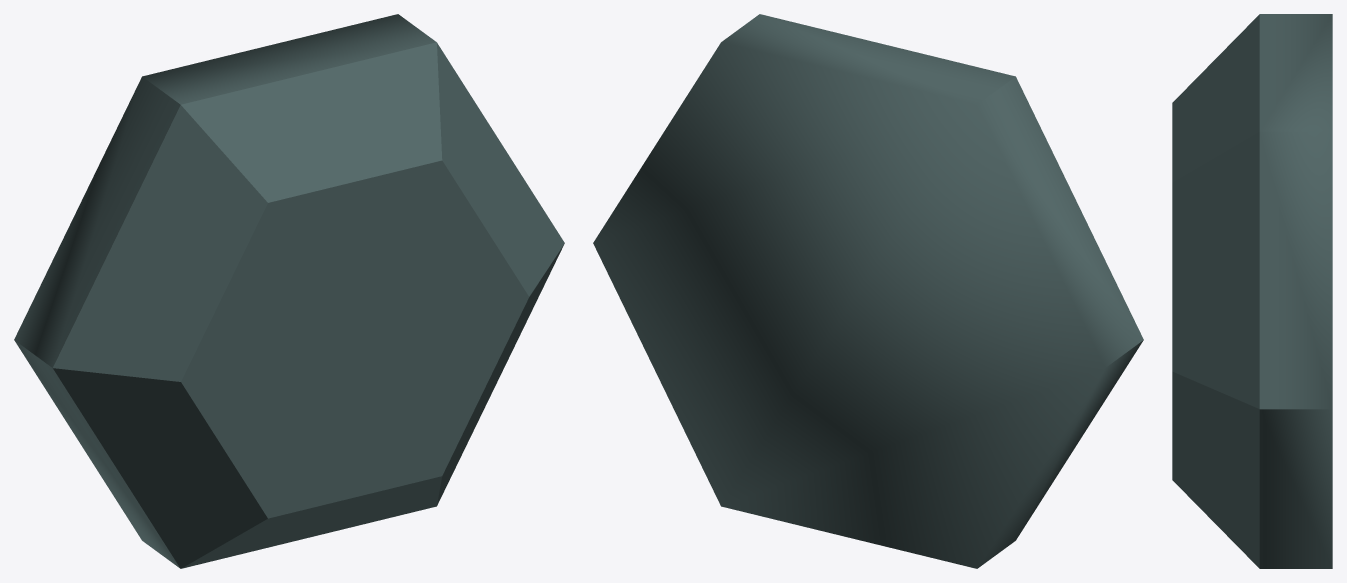
The model's file is lid.obj.
3 renders of one model, left to right at view 1: azimuth 30°, elevation 25°; view 2: azimuth 150°, elevation 25°; view 3: azimuth 270°, elevation 25°, orthographic. The views are drawn at different scales.
Visible parts, largest first — view 1: trashcan.004_trashcan.006; view 2: trashcan.004_trashcan.006; view 3: trashcan.004_trashcan.006.
Part boxes in pixels (left/top/right/bottom): trashcan.004_trashcan.006: left=14, top=14, right=564, bottom=568; trashcan.004_trashcan.006: left=593, top=14, right=1143, bottom=568; trashcan.004_trashcan.006: left=1172, top=14, right=1332, bottom=568.
Size of the model in its own units: 0.2077 by 0.1799 by 0.0597.
